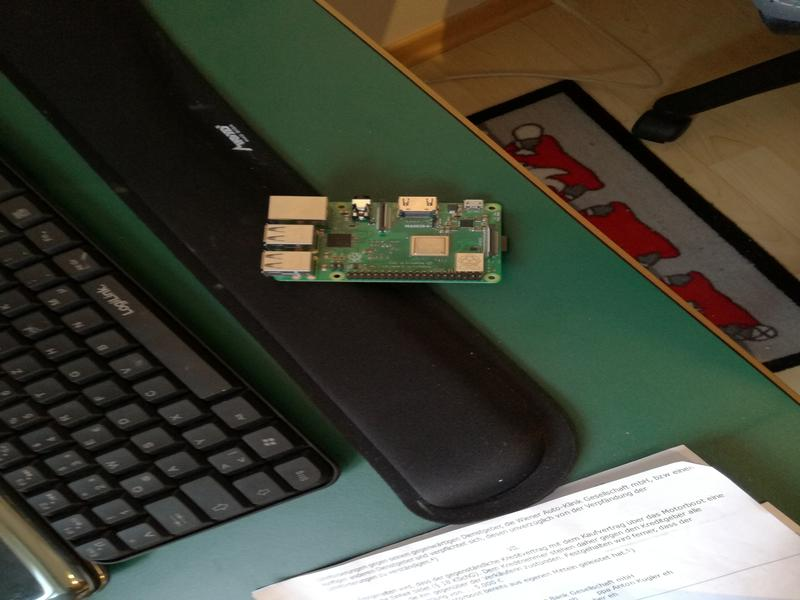Raspberry_Pi_3: (257, 188, 512, 293)
